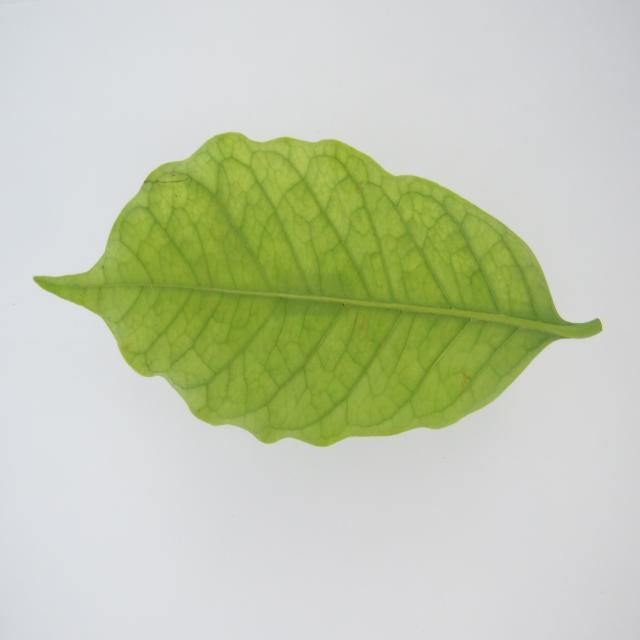DeficienciaNutricional-Calcio: (35, 133, 601, 445)
